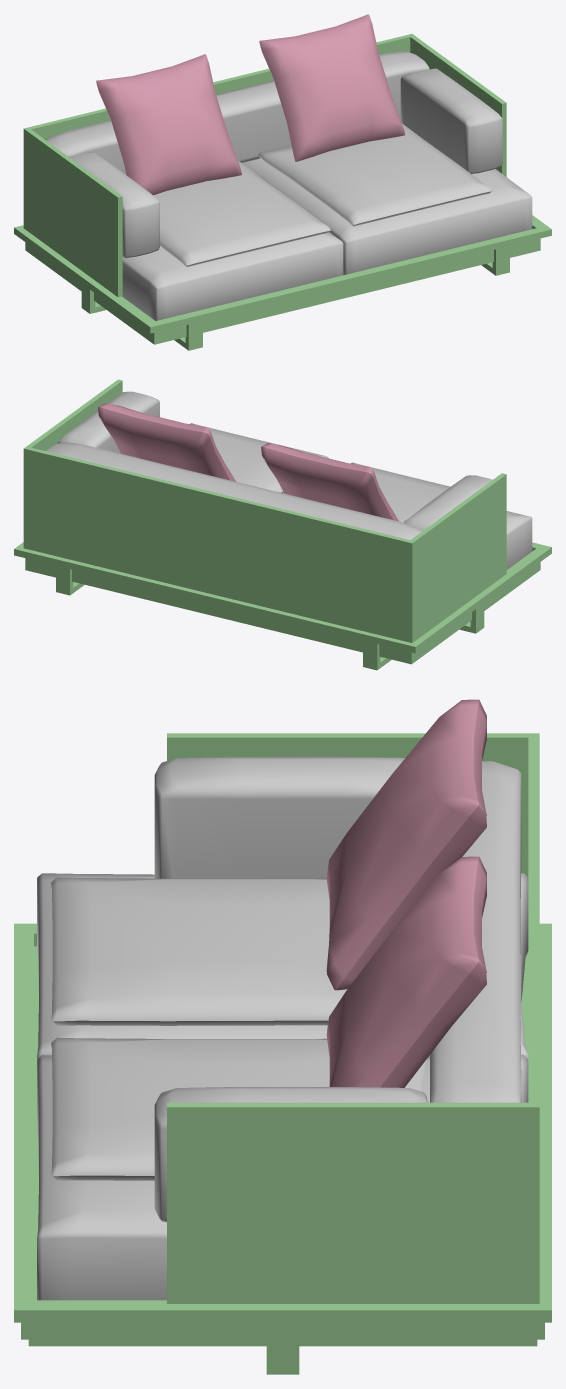
Rendered from DBSFF022.FBX.
The picture shows the model from 3 angles, top to bottom: view 1: azimuth 30°, elevation 25°; view 2: azimuth 150°, elevation 25°; view 3: azimuth 270°, elevation 25°; orthographic projection. The views are drawn at different scales.
Parts seen in each view (by area): view 1: DBSFF022; view 2: DBSFF022; view 3: DBSFF022.
Boxes of the visible parts, x1=… form: DBSFF022: x1=14, y1=14, x2=551, y2=350; DBSFF022: x1=14, y1=379, x2=551, y2=670; DBSFF022: x1=14, y1=699, x2=551, y2=1374.
Bounding box in the file's own units: 170 × 100 × 73.
